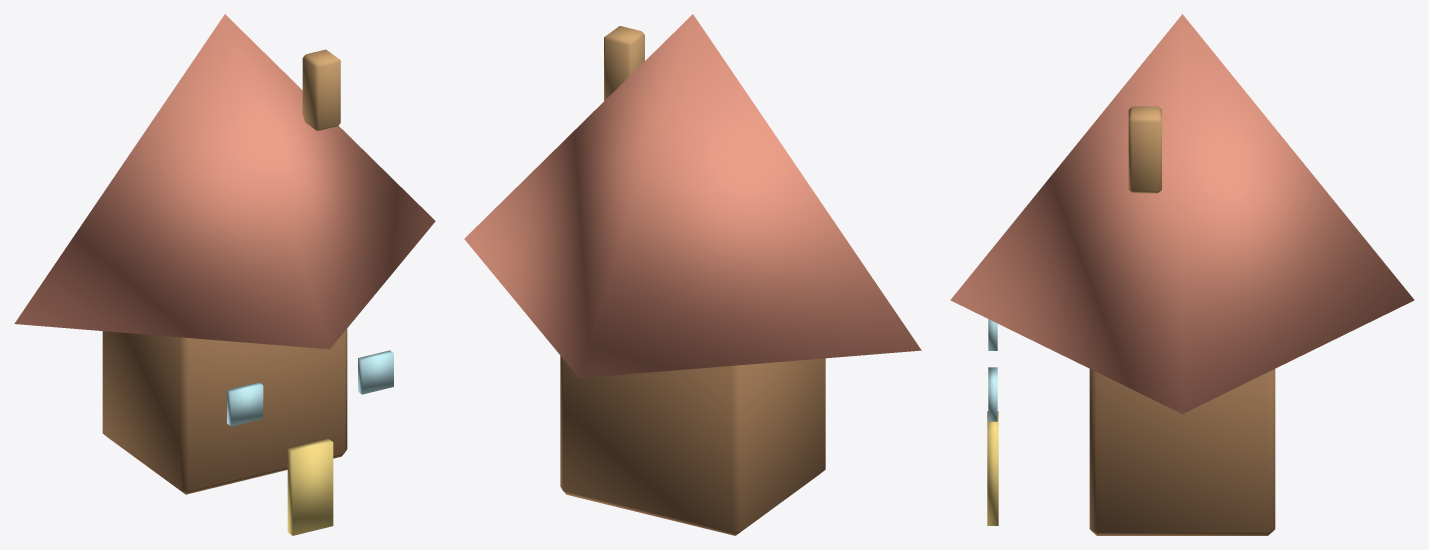
File: gg-clay-cottage.glb
3 renders of one model, left to right at view 1: azimuth 30°, elevation 25°; view 2: azimuth 150°, elevation 25°; view 3: azimuth 270°, elevation 25°, orthographic. The views are drawn at different scales.
Visible parts, largest first — view 1: Cottage_Roof, Cottage_Body, Cottage_Door, Cottage_Chimney, Cottage_Window.L, Cottage_Window.R; view 2: Cottage_Roof, Cottage_Body, Cottage_Chimney; view 3: Cottage_Roof, Cottage_Body, Cottage_Chimney, Cottage_Door, Cottage_Window.R.
Part boxes in pixels (x1=…): Cottage_Roof: x1=14, y1=14, x2=435, y2=349; Cottage_Body: x1=102, y1=328, x2=347, y2=494; Cottage_Door: x1=287, y1=438, x2=333, y2=535; Cottage_Chimney: x1=302, y1=49, x2=340, y2=131; Cottage_Window.L: x1=227, y1=382, x2=263, y2=426; Cottage_Window.R: x1=358, y1=350, x2=393, y2=394; Cottage_Roof: x1=464, y1=14, x2=921, y2=377; Cottage_Body: x1=560, y1=356, x2=825, y2=535; Cottage_Chimney: x1=604, y1=26, x2=644, y2=100; Cottage_Roof: x1=950, y1=14, x2=1414, y2=413; Cottage_Body: x1=1089, y1=369, x2=1275, y2=535; Cottage_Chimney: x1=1128, y1=106, x2=1161, y2=193; Cottage_Door: x1=987, y1=411, x2=998, y2=525; Cottage_Window.R: x1=988, y1=367, x2=997, y2=421.
Bounding box in the file's own units: 2.9 × 2.98 × 2.5.
